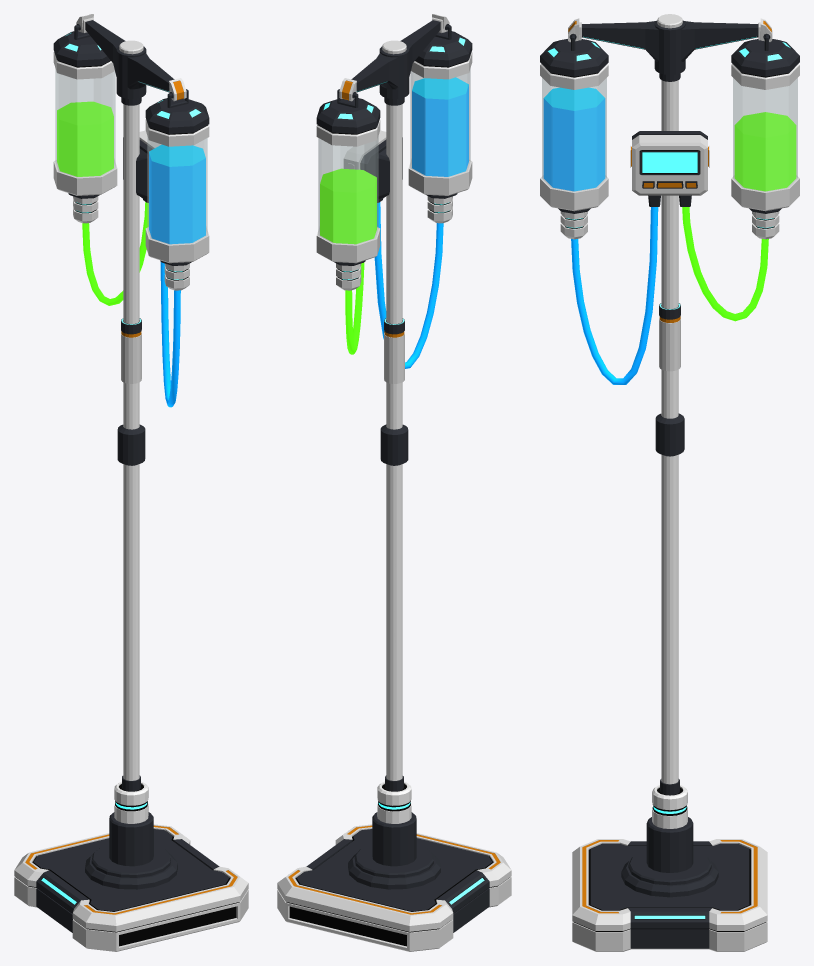
File: SM_IVStand_Dual.fbx
3 views of the same model, side by side, from view 1: azimuth 30°, elevation 25°; view 2: azimuth 150°, elevation 25°; view 3: azimuth 270°, elevation 25° (orthographic). The views are drawn at different scales.
Parts seen in each view (by area): view 1: SM_IVStand_Dual; view 2: SM_IVStand_Dual; view 3: SM_IVStand_Dual.
Part boxes in pixels (left/top/right/bottom): SM_IVStand_Dual: left=14, top=14, right=248, bottom=951; SM_IVStand_Dual: left=277, top=14, right=511, bottom=951; SM_IVStand_Dual: left=540, top=14, right=799, bottom=951.
Bounding box in the file's own units: 39.11 × 197 × 51.98.
